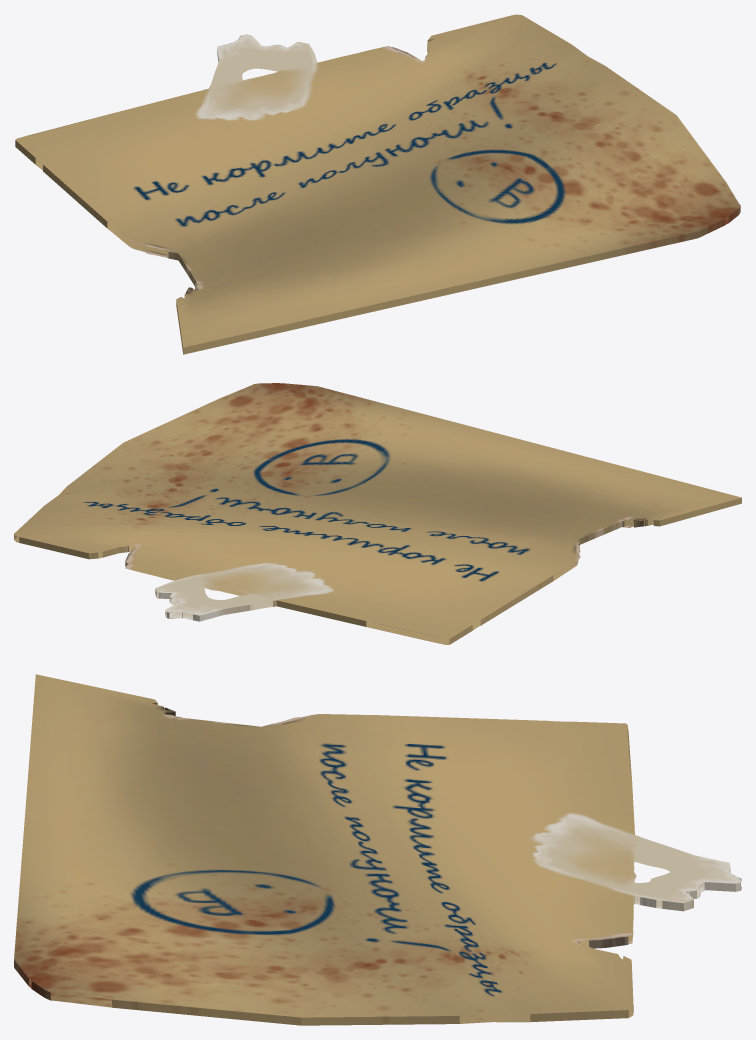
The model's file is Sticker_on_the_toilet_mirror.fbx.
3 views of the same model, one above another, from view 1: azimuth 30°, elevation 25°; view 2: azimuth 150°, elevation 25°; view 3: azimuth 270°, elevation 25° (orthographic). The views are drawn at different scales.
Parts seen in each view (by area): view 1: Sticker_on_the_toilet_mirror; view 2: Sticker_on_the_toilet_mirror; view 3: Sticker_on_the_toilet_mirror.
Boxes of the visible parts, left/top/right/bottom form: Sticker_on_the_toilet_mirror: left=15, top=14, right=740, bottom=354; Sticker_on_the_toilet_mirror: left=14, top=383, right=741, bottom=644; Sticker_on_the_toilet_mirror: left=14, top=674, right=741, bottom=1025.
Size of the model in its own units: 46.62 by 0.5121 by 41.78.
